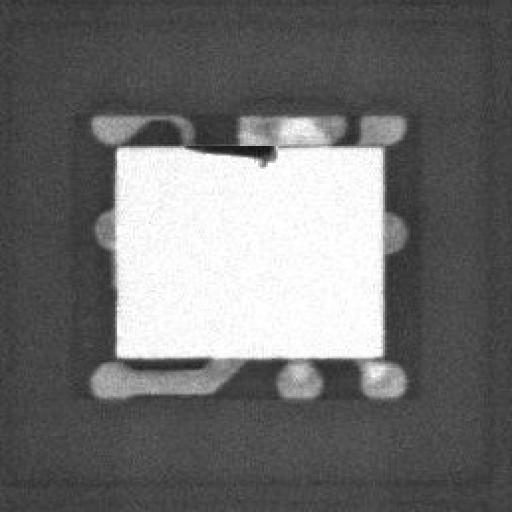DIE_BROKEN: (180, 138, 280, 165)
